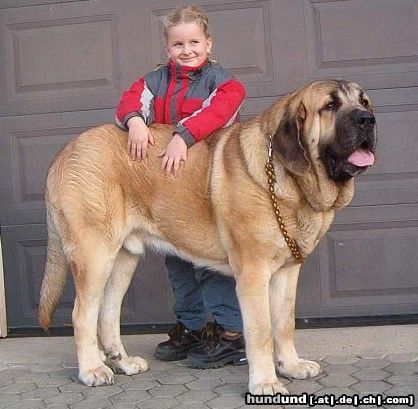human_face: (165, 24, 211, 67)
mastin_espanol: (37, 79, 377, 395)
person: (113, 5, 248, 369)
